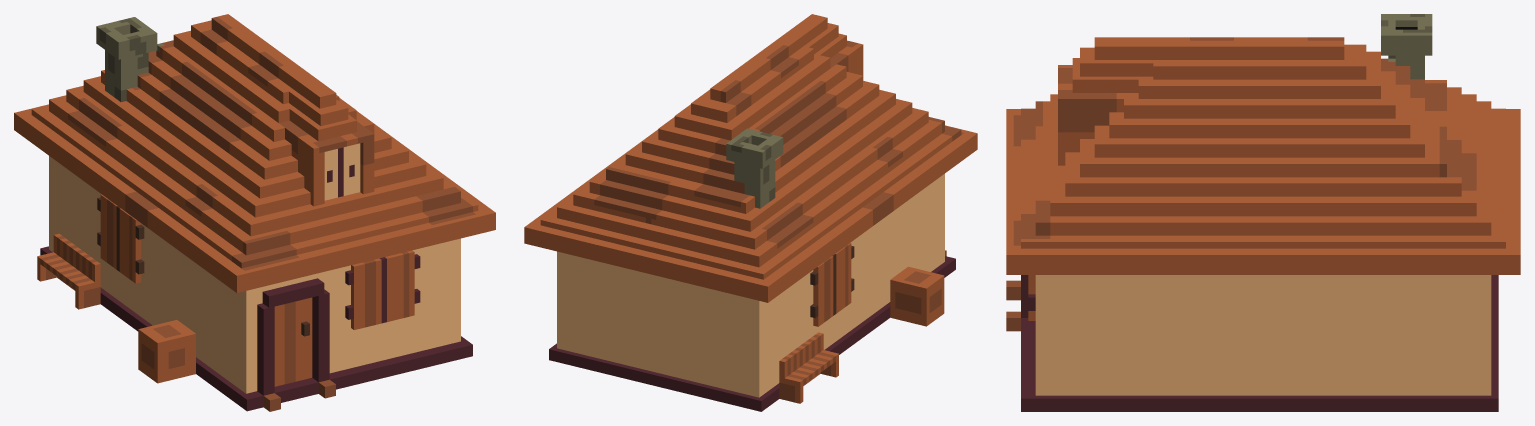
The model's file is map v1.0-7.obj.
3 views of the same model, side by side, from view 1: azimuth 30°, elevation 25°; view 2: azimuth 150°, elevation 25°; view 3: azimuth 270°, elevation 25° (orthographic). The views are drawn at different scales.
Bounding box in the file's own units: 5.1 × 4.6 × 7.
1 material, 1 textured.
